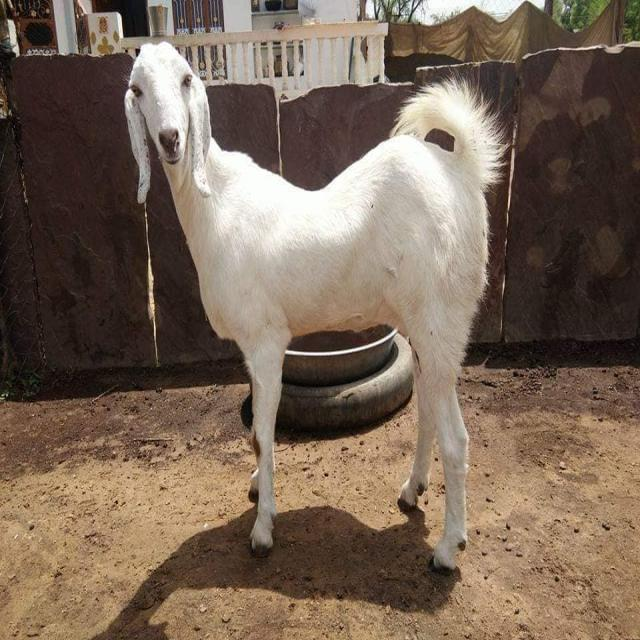Goat: (123, 39, 511, 572)
